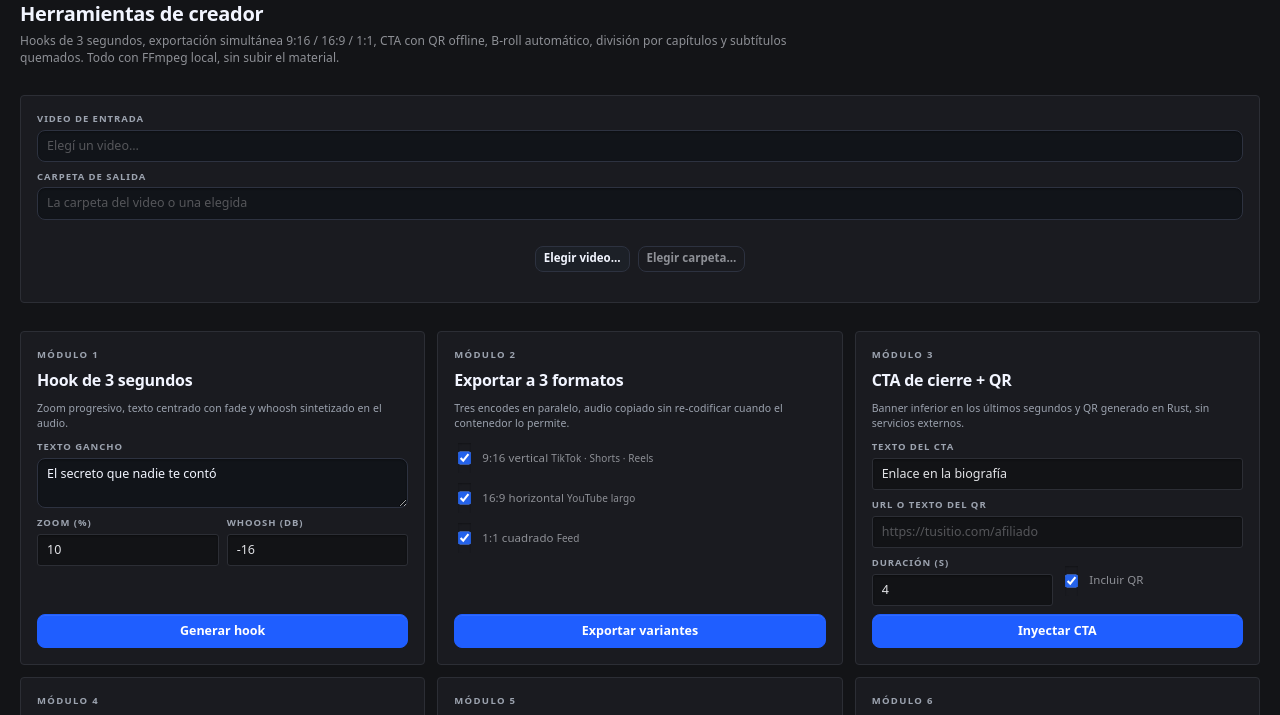
Test: herramientas de creador › divide capítulos y quema subtítulos
Click the button "Elegir video…". click: (582,259)
box: [535,246,630,272]
(page scrolled)
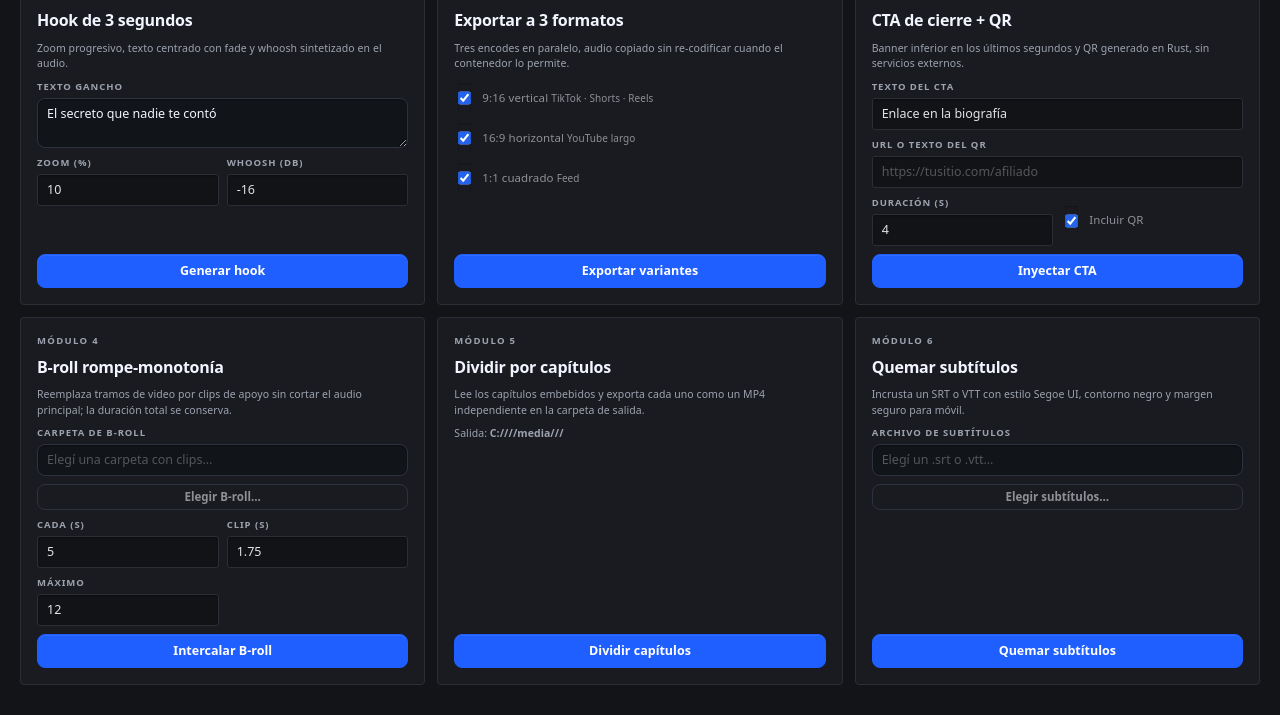
Click the button "Dividir capítulos". click: (640,651)
box: [454,634,826,668]
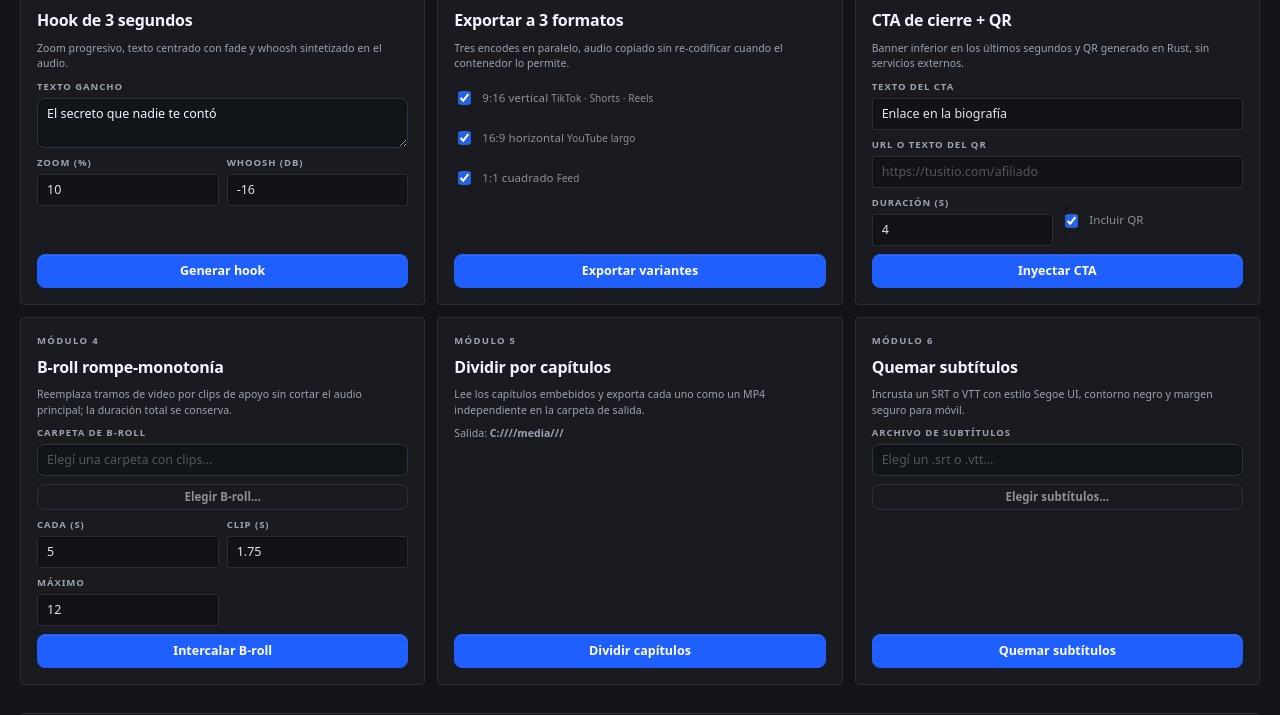
Click the button "Elegir subtítulos…". click: (1057,497)
box: [872,484,1243,510]
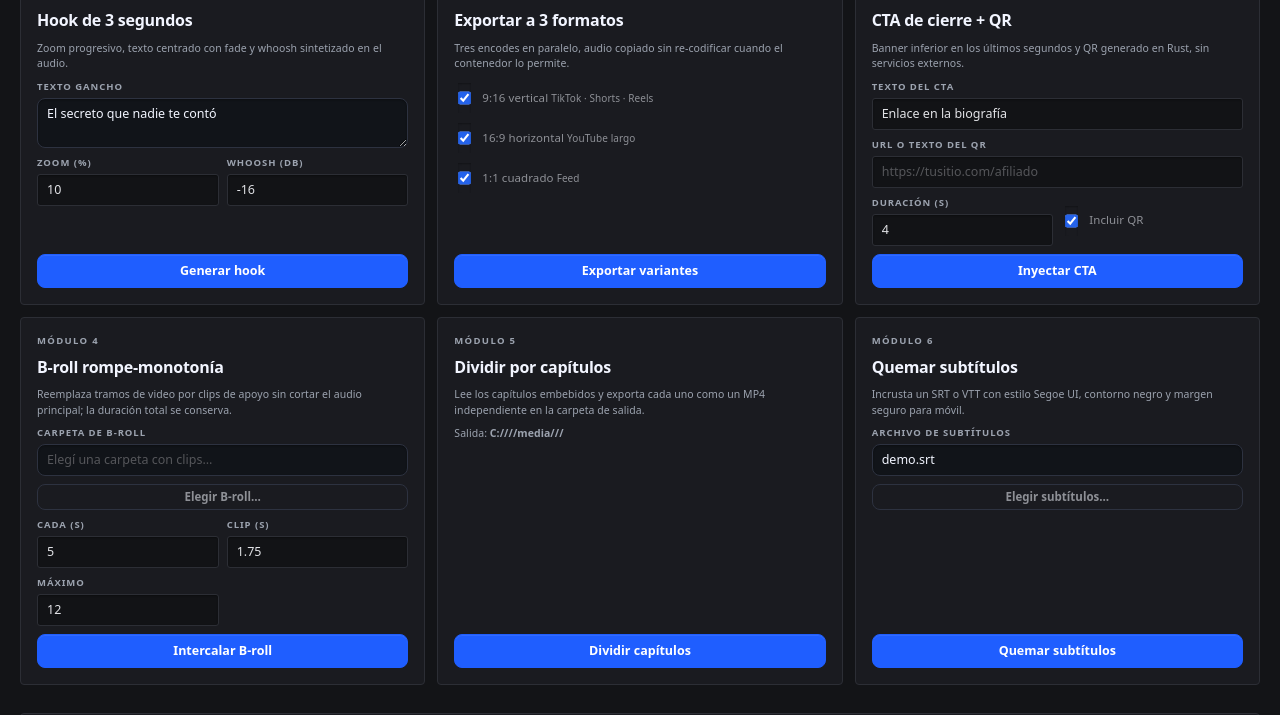
Check: the field labelled "Archivo de subtítulos" holds "demo.srt", box [872,444,1243,476]
Click the button "Quemar subtítulos". click: (1057,651)
box: [872,634,1243,668]
(page scrolled)
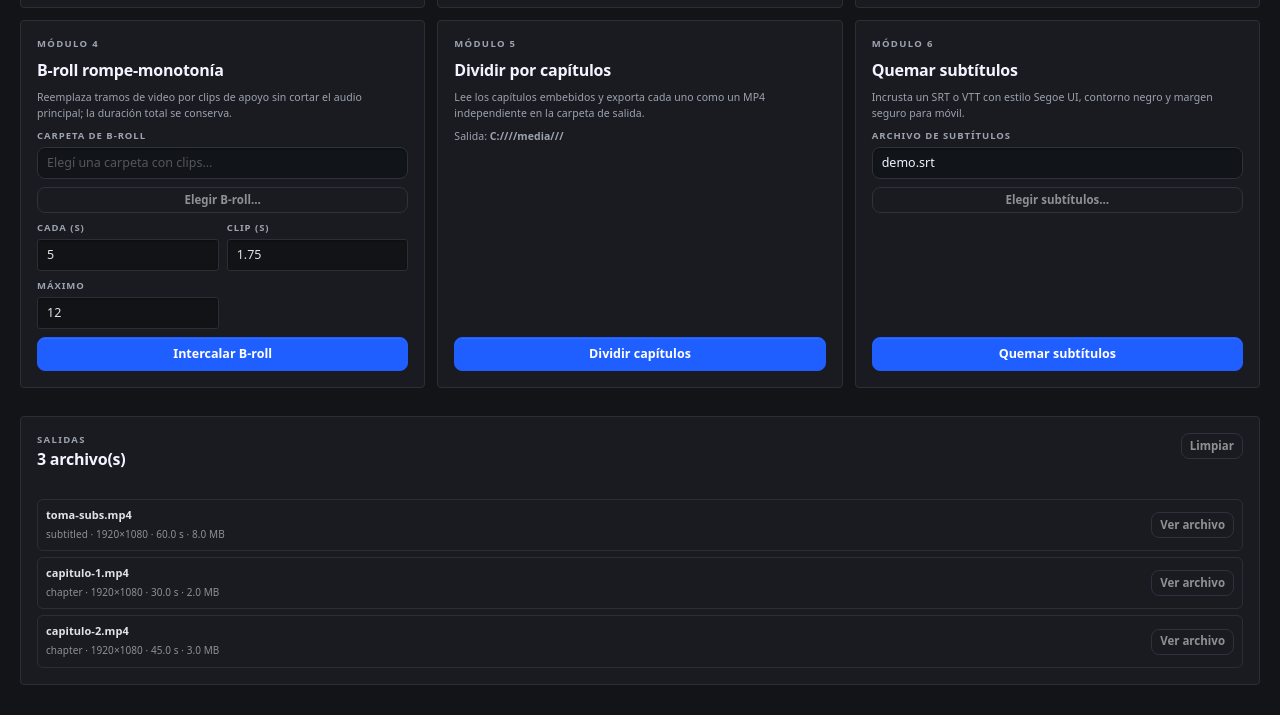
Check: the text "toma-subs.mp4" is shown, box [46,507,132,522]
